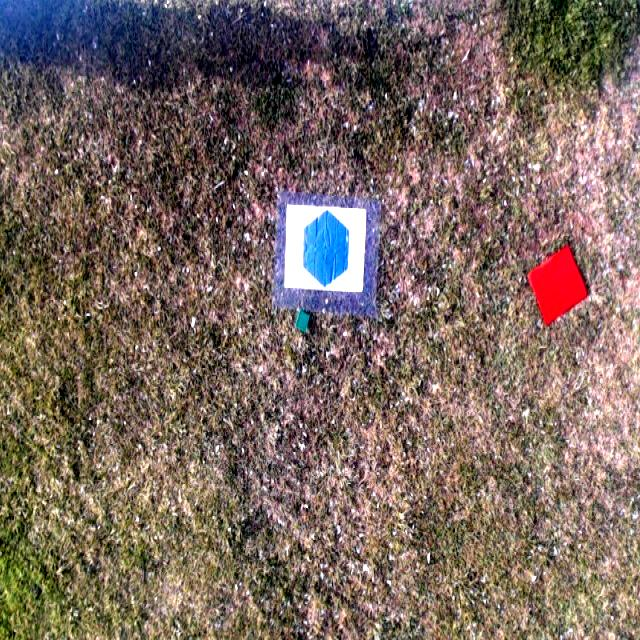blue_hexagon: (303, 211, 351, 287)
red_square: (530, 247, 587, 323)
